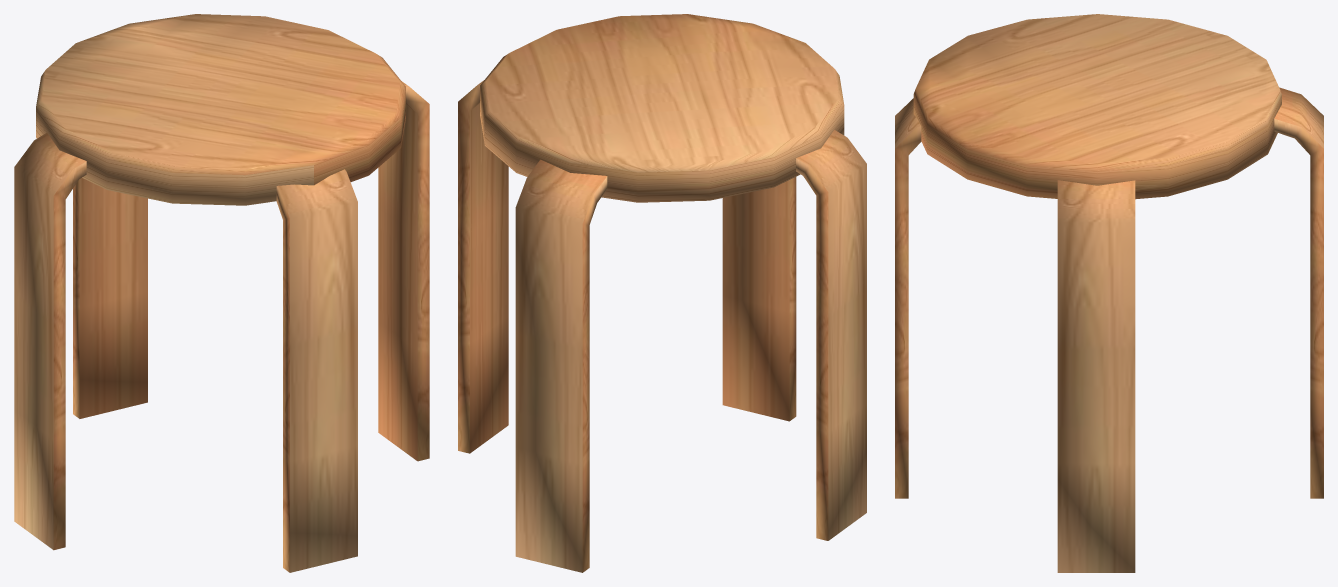
The model's file is Chair2.fbx.
3 views of the same model, side by side, from view 1: azimuth 30°, elevation 25°; view 2: azimuth 150°, elevation 25°; view 3: azimuth 270°, elevation 25° (orthographic).
Visible parts, largest first — view 1: Chair2; view 2: Chair2; view 3: Chair2.
Boxes of the visible parts, box(x1,y1,x2,y2) form: Chair2: box(14, 14, 429, 572); Chair2: box(458, 14, 866, 572); Chair2: box(895, 14, 1323, 572).
Bounding box in the file's own units: 499 × 499 × 508.
